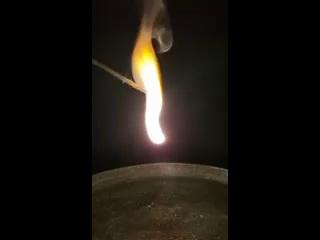Fire: (134, 19, 168, 148)
